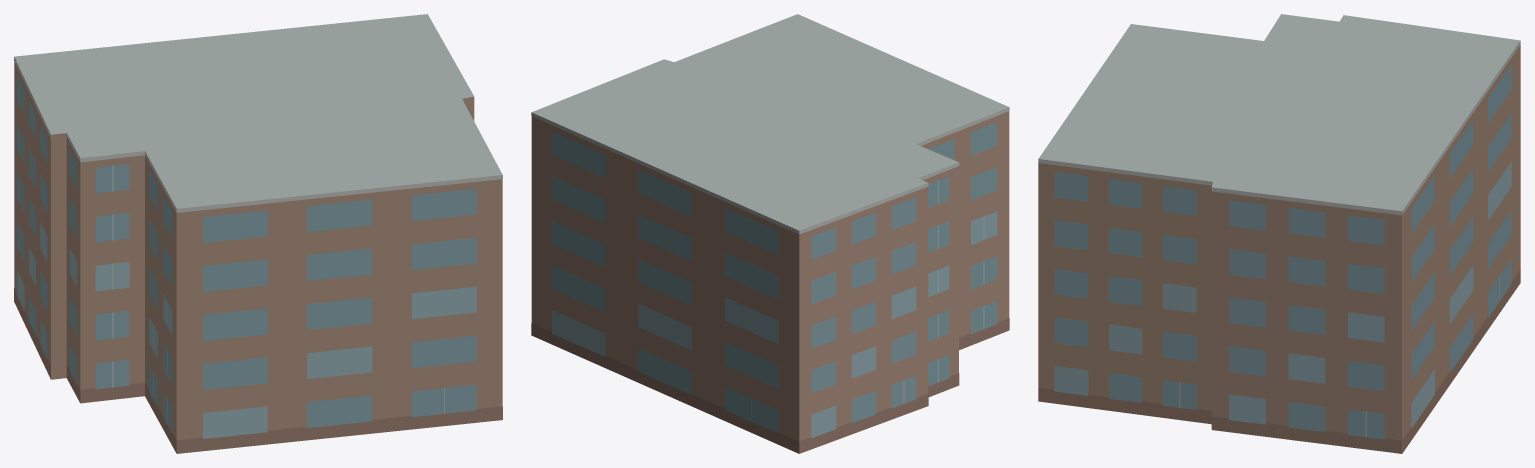
The model's file is survey-upis-32705366.glb.
3 renders of one model, left to right at view 1: azimuth 30°, elevation 25°; view 2: azimuth 150°, elevation 25°; view 3: azimuth 270°, elevation 25°, orthographic. The views are drawn at different scales.
Parts seen in each view (by area): view 1: survey-upis-32705366.tmp; view 2: survey-upis-32705366.tmp; view 3: survey-upis-32705366.tmp.
Part boxes in pixels (x1=…): survey-upis-32705366.tmp: x1=14, y1=14, x2=502, y2=453; survey-upis-32705366.tmp: x1=531, y1=14, x2=1009, y2=453; survey-upis-32705366.tmp: x1=1038, y1=14, x2=1520, y2=453.
Size of the model in its own units: 25.48 by 14.6 by 26.31.
